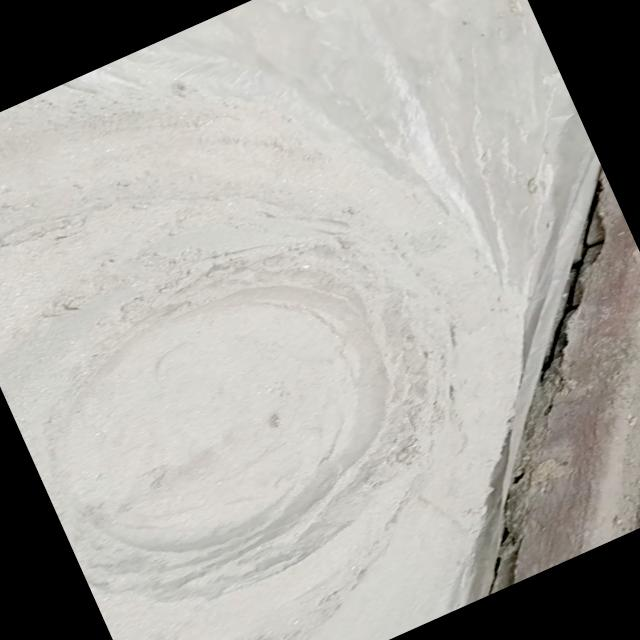C40: (51, 287, 388, 556)
